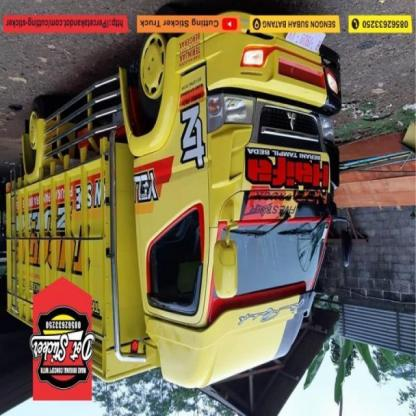truck: (1, 26, 344, 392)
